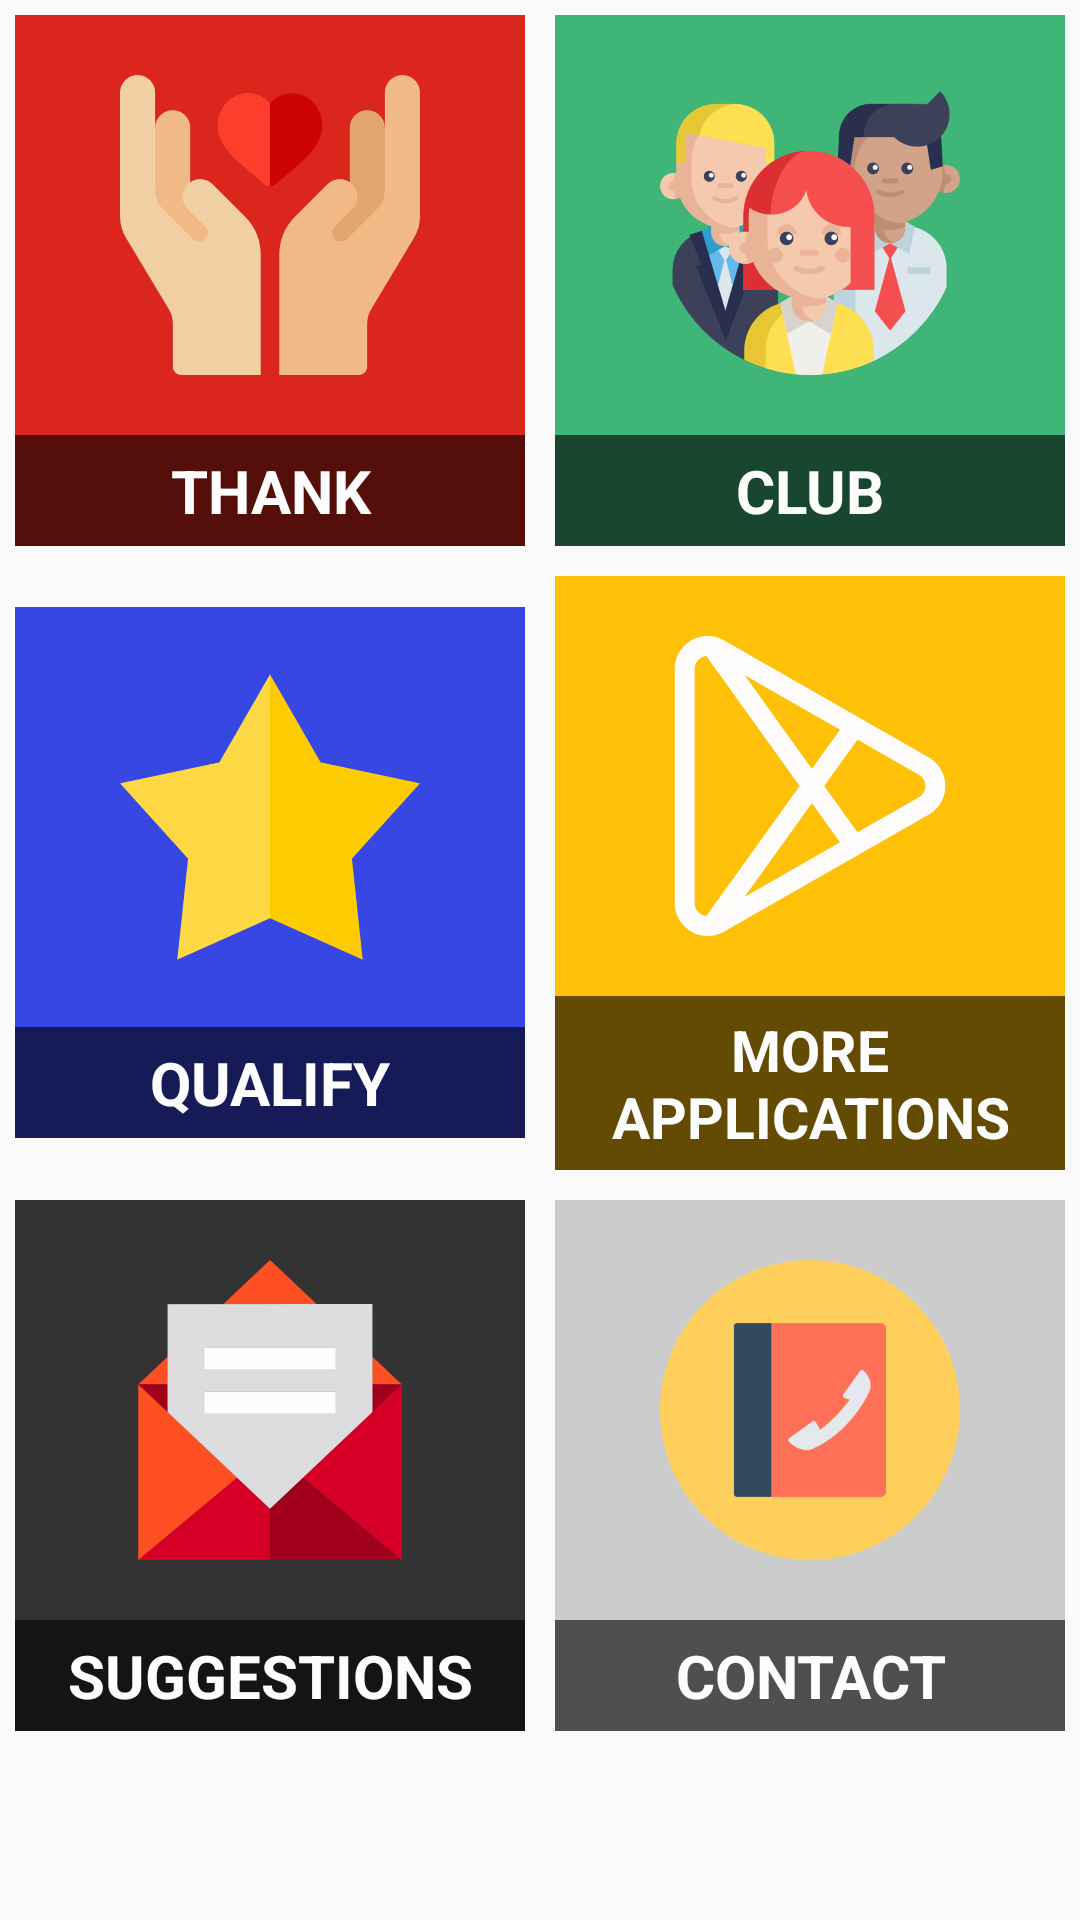

Icons on this 1080px x 1920px Android screen, each with its box as (x1, y1, x2, y2):
email: (138, 1260, 402, 1560)
favorite: (120, 674, 420, 960)
hands: (120, 75, 420, 375)
phonebook: (660, 1260, 960, 1560)
teamworkg: (660, 91, 960, 375)
